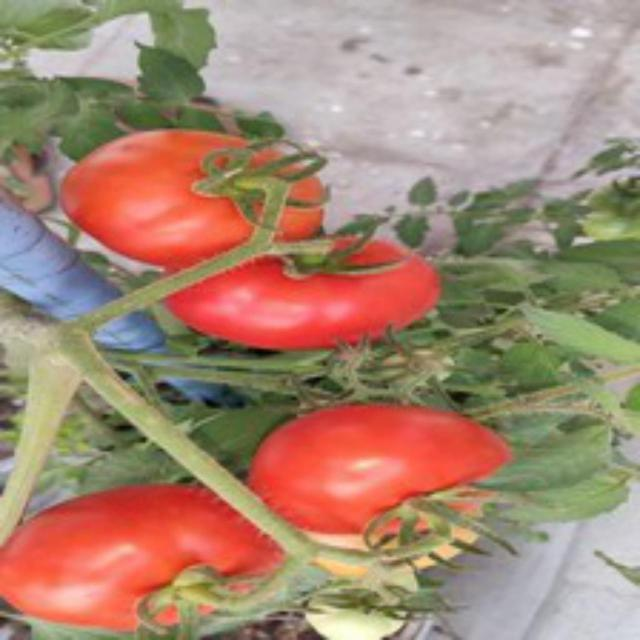tomato: (0, 480, 282, 637), (50, 118, 335, 268), (248, 406, 510, 546), (165, 237, 452, 354)
